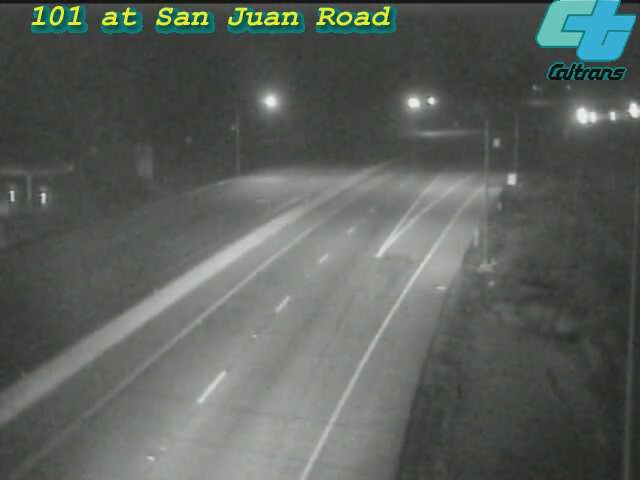vehicle: (586, 91, 636, 141), (567, 95, 617, 145), (558, 89, 608, 139), (607, 87, 640, 137), (608, 86, 640, 136)
